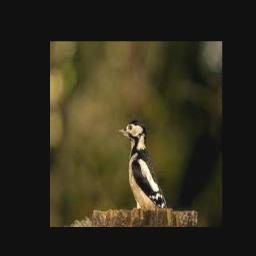Woodpecker: (117, 120, 167, 209)
